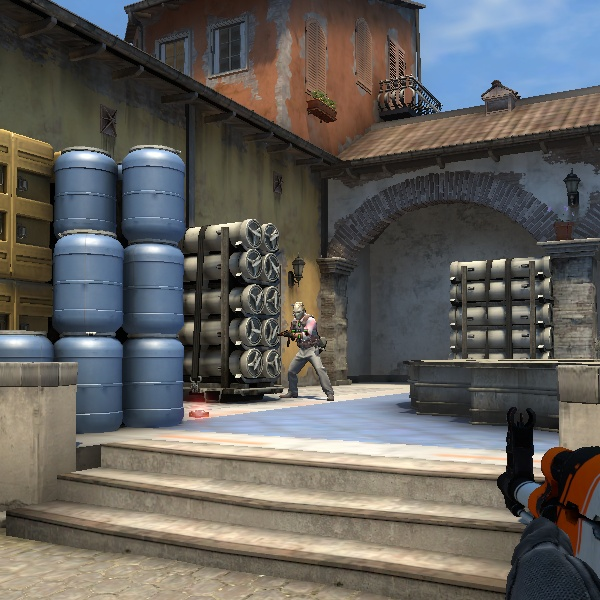t_body: (280, 303, 332, 402)
